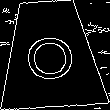O_N: (24, 27, 77, 81)
